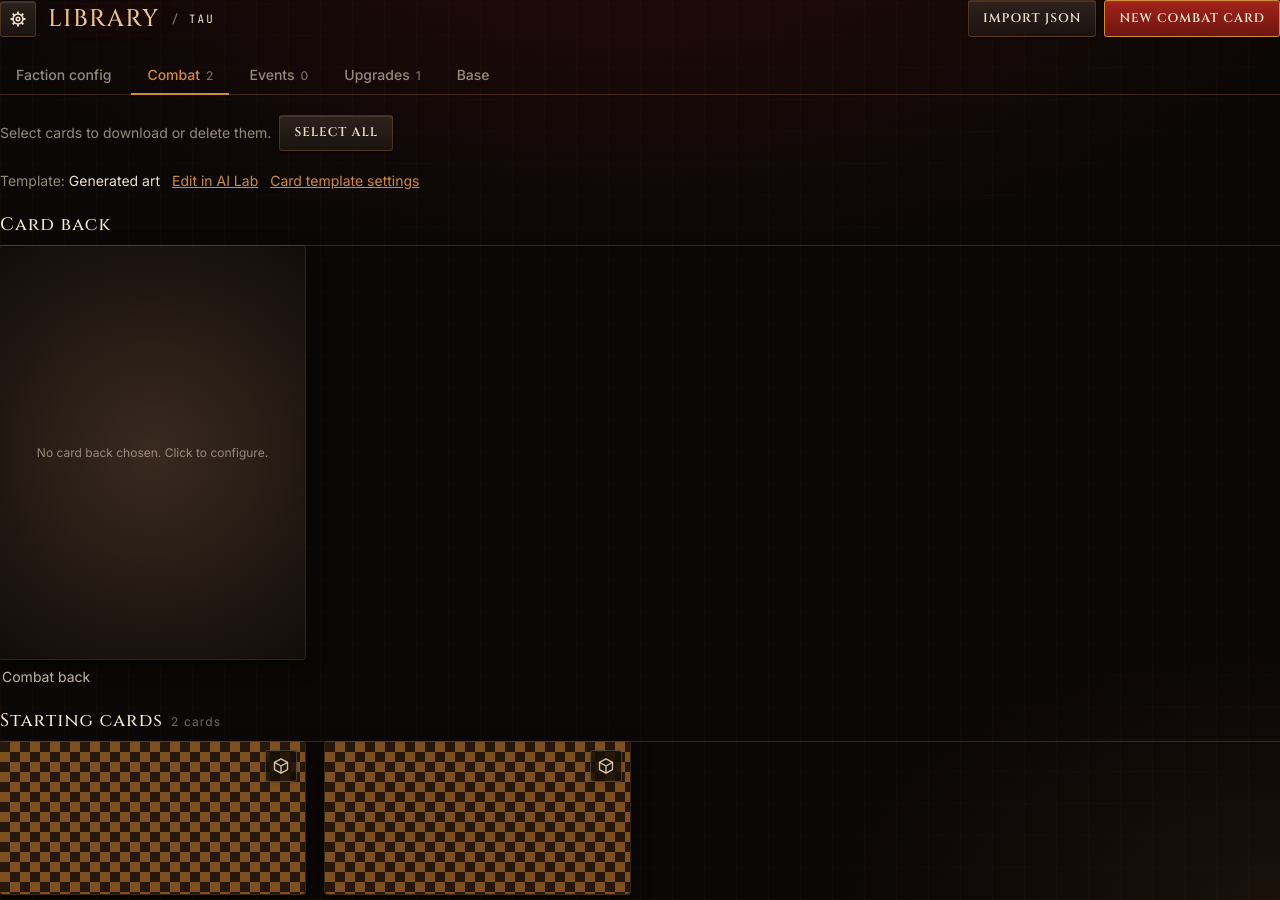
Test: the gear in the library header opens the faction config; the template settings stay one click away
This screenshot has width=1280, height=900.
What coordinates should you click on to do the following:
click the button named "Open faction config"
I would click on:
 (18, 19)
Its box is [0,1,36,37].
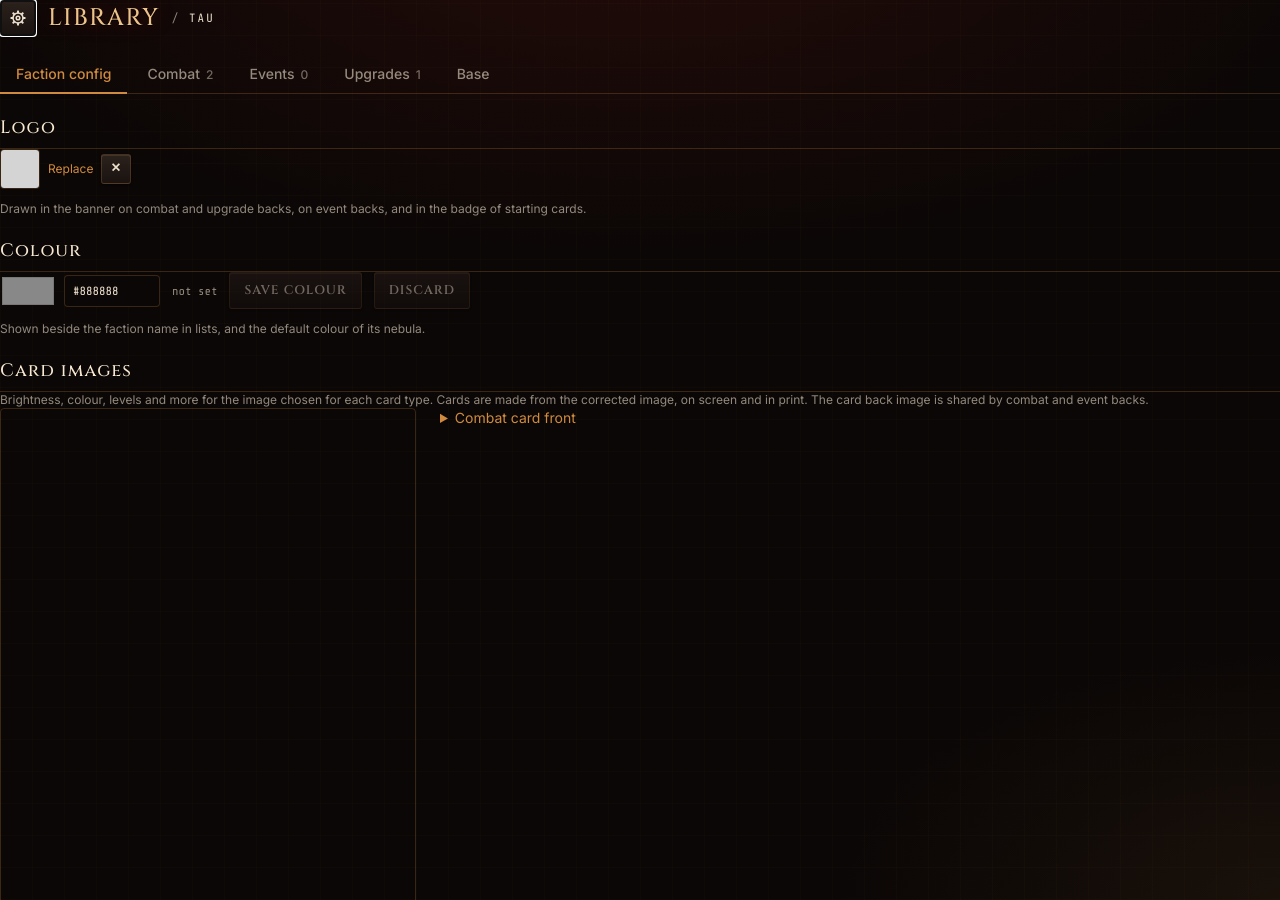
Expected: the dialog "Card templates" is not shown
Expected: the element named "Faction logo" is shown, [0,114,1279,217]
What coordinates should you click on to do the following:
click the tab "Combat2"
I would click on:
 (180, 75)
Its box is [131,56,230,94].
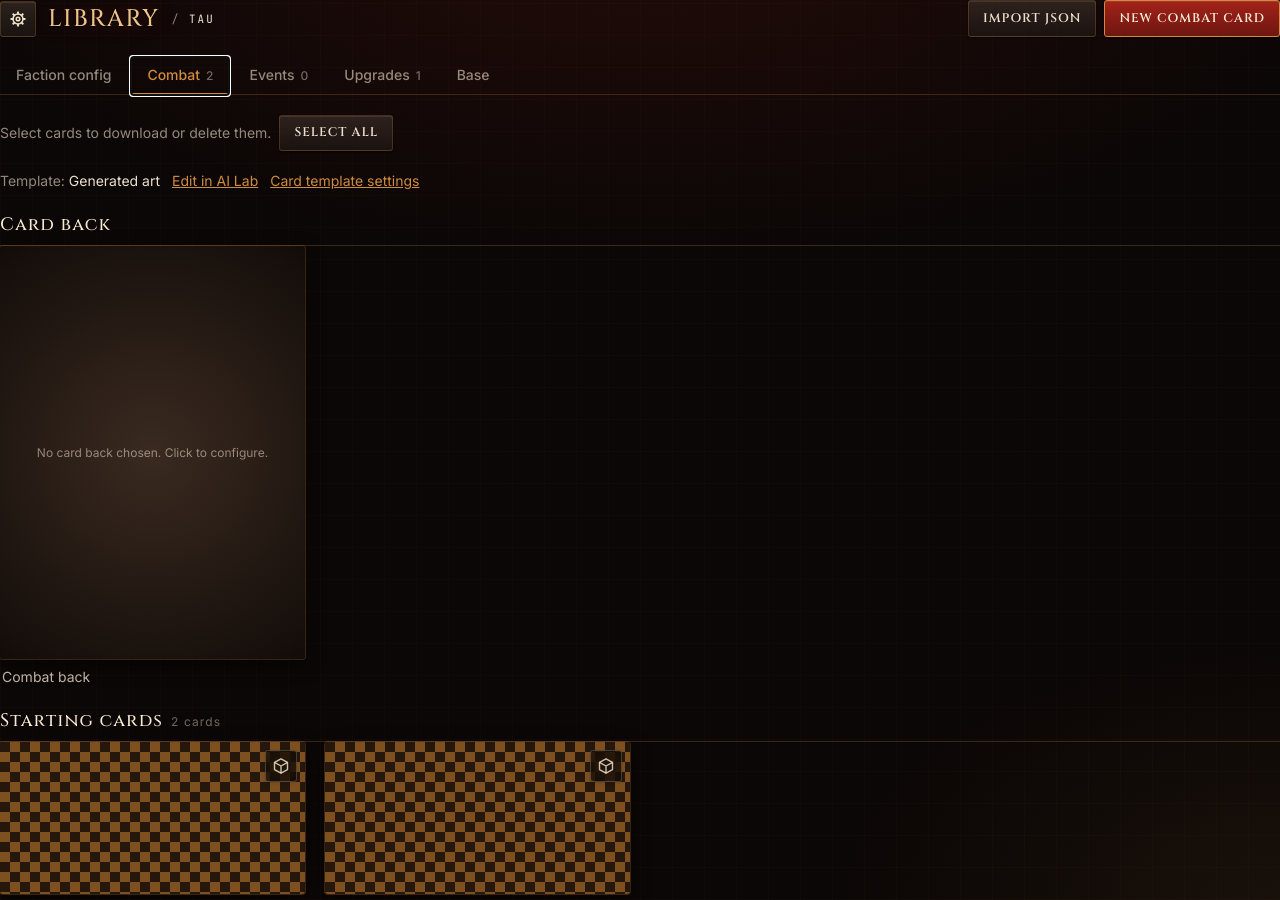
What coordinates should you click on to do the following:
click the button "Card template settings"
I would click on:
 (345, 181)
Its box is [270,171,419,191].
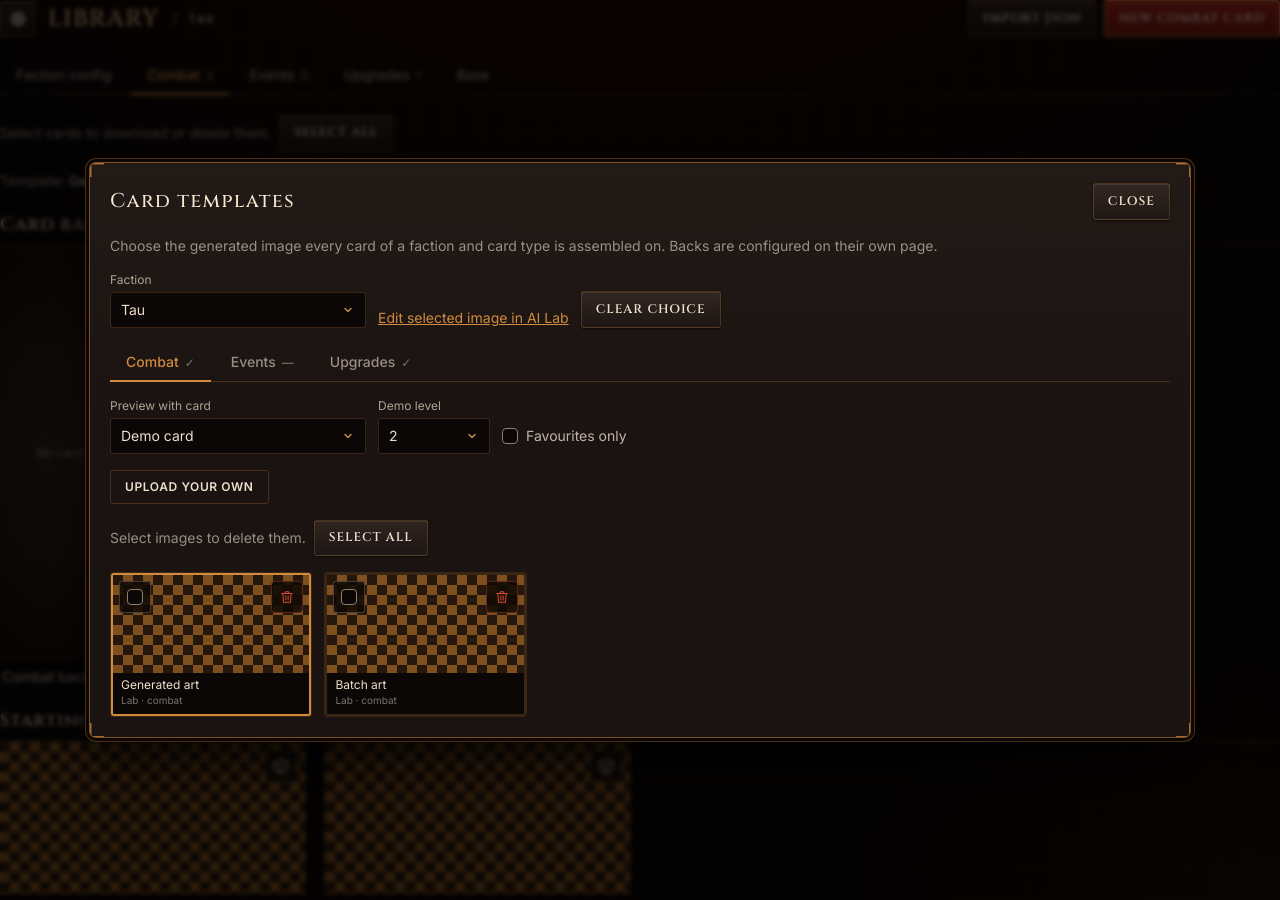
Expected: the dialog "Card templates" is shown, [90,162,1190,737]
